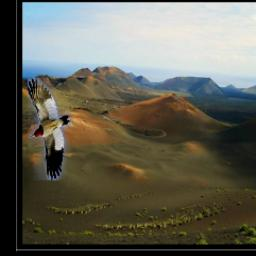Woodpecker: (27, 78, 70, 180)
